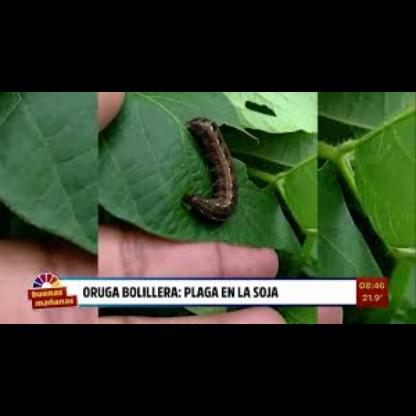oruga: (178, 118, 242, 228)
